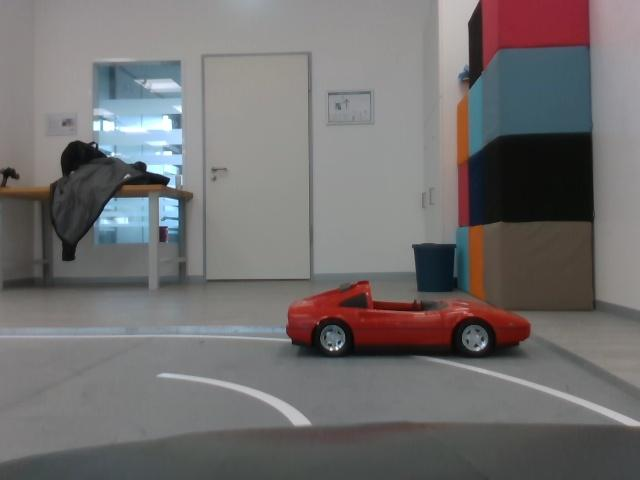car: (287, 273, 538, 361)
